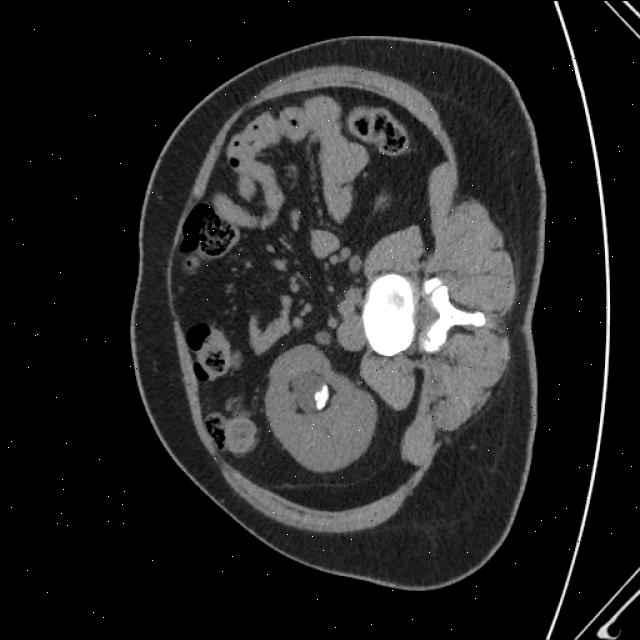kidneystone: (314, 382, 329, 410)
